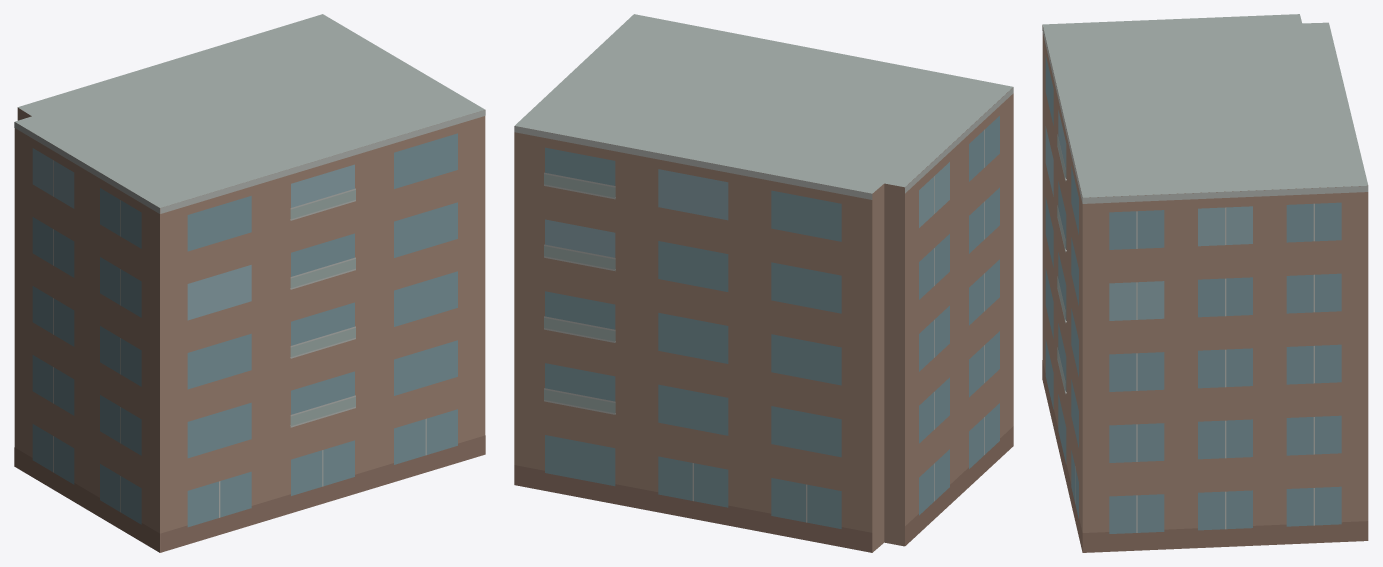
Rendered from survey-upis-32664187.glb.
3 views of the same model, side by side, from view 1: azimuth 30°, elevation 25°; view 2: azimuth 150°, elevation 25°; view 3: azimuth 270°, elevation 25° (orthographic). The views are drawn at different scales.
Visible parts, largest first — view 1: survey-upis-32664187.tmp; view 2: survey-upis-32664187.tmp; view 3: survey-upis-32664187.tmp.
Boxes of the visible parts, x1=… form: survey-upis-32664187.tmp: x1=14, y1=14, x2=485, y2=552; survey-upis-32664187.tmp: x1=514, y1=14, x2=1013, y2=552; survey-upis-32664187.tmp: x1=1042, y1=14, x2=1368, y2=552.
Size of the model in its own units: 15.32 by 13.8 by 11.49.
